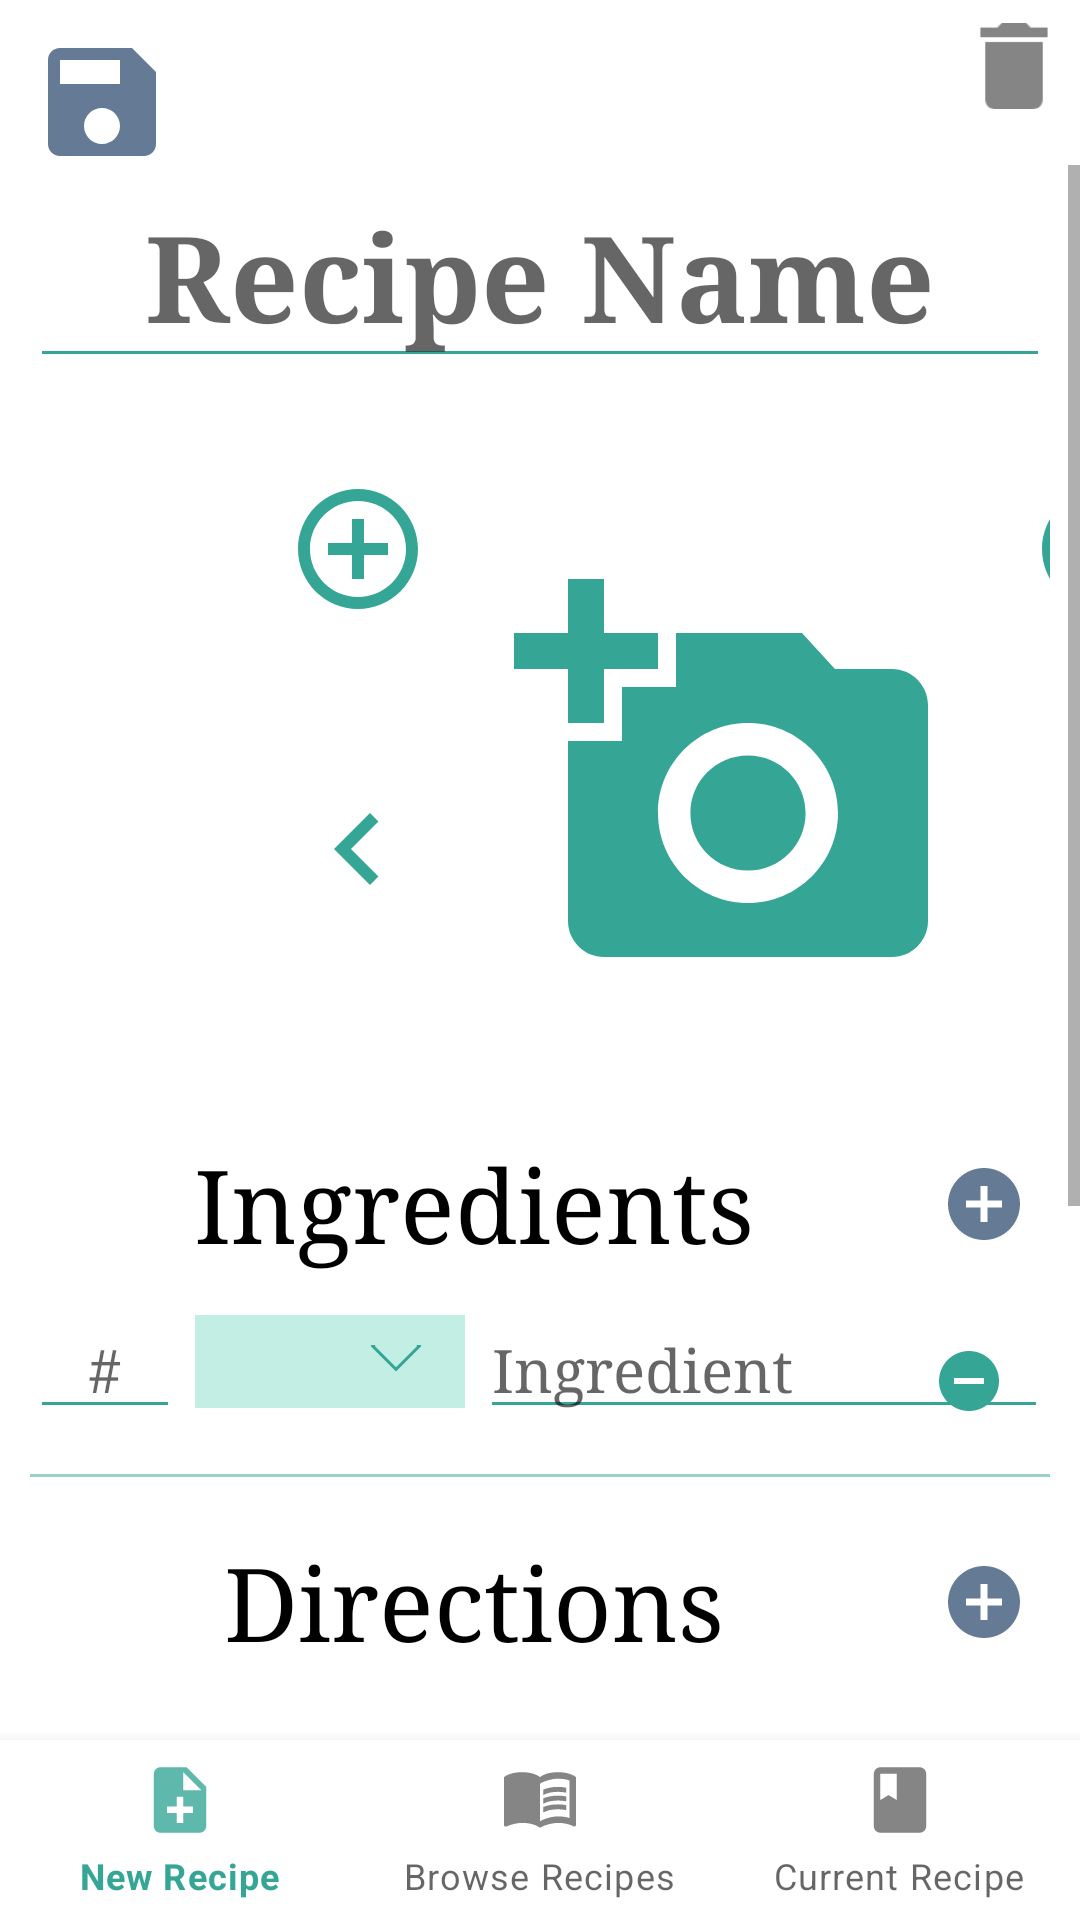

Icons on this 1080px x 1920px Android screen, each with the point to tap as (x,y):
Add Direction: (984,1602)
Add Photo: (358,549)
Left Arrow: (356,849)
Save Recipe: (102,102)
